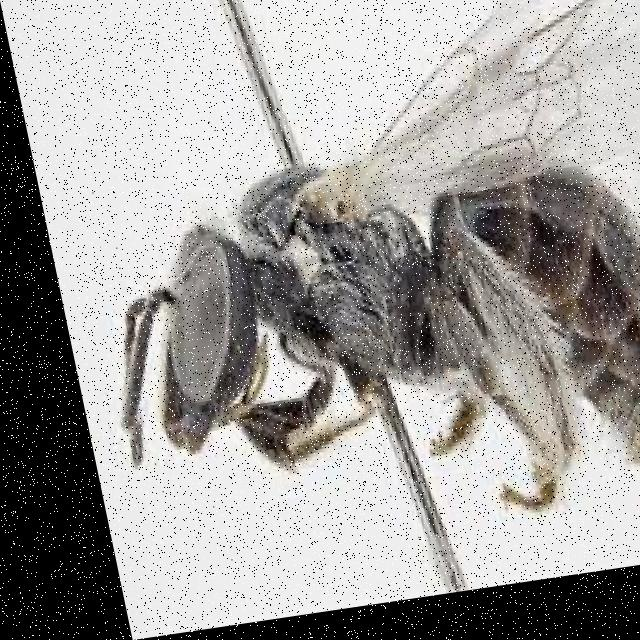Braunsapis: (47, 0, 640, 584)
